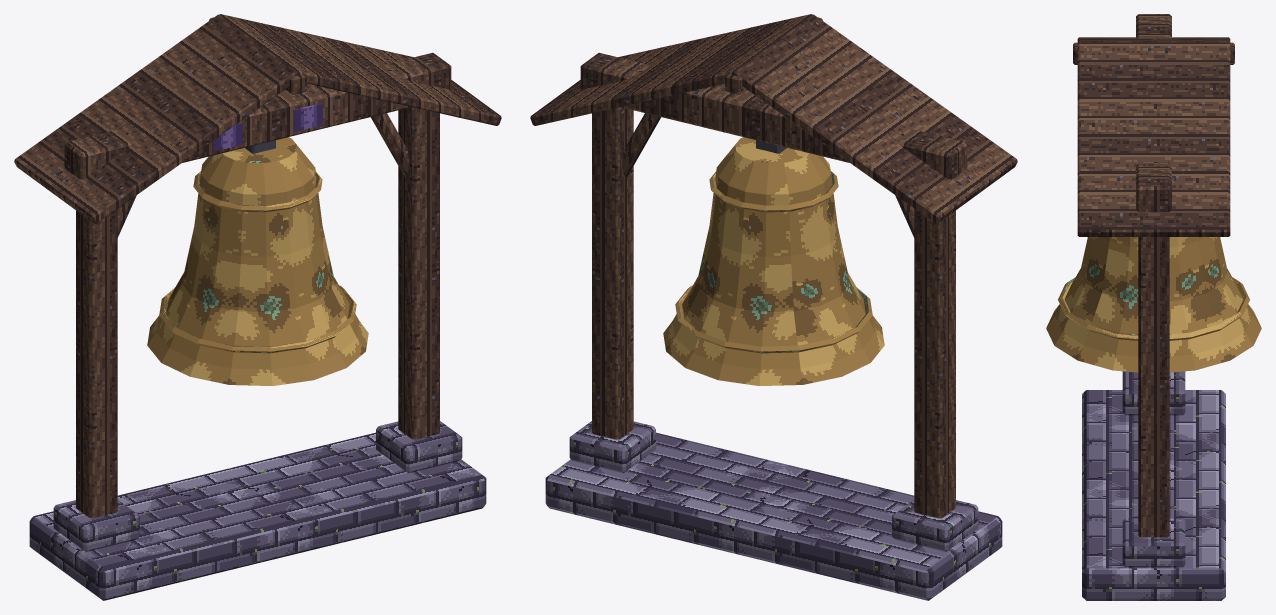
Rendered from tower_bell.glb.
3 views of the same model, side by side, from view 1: azimuth 30°, elevation 25°; view 2: azimuth 150°, elevation 25°; view 3: azimuth 270°, elevation 25° (orthographic). The views are drawn at different scales.
Parts seen in each view (by area): view 1: Frame, Bell; view 2: Frame, Bell; view 3: Frame, Bell.
Boxes of the visible parts, bbox=[...] form: Frame: bbox=[14, 14, 501, 600]; Bell: bbox=[147, 137, 368, 385]; Frame: bbox=[530, 14, 1017, 600]; Bell: bbox=[663, 137, 884, 385]; Frame: bbox=[1073, 14, 1234, 600]; Bell: bbox=[1046, 237, 1261, 372].
Bounding box in the file's own units: 5.09 × 5.77 × 2.4.
5 materials, 5 textured.
